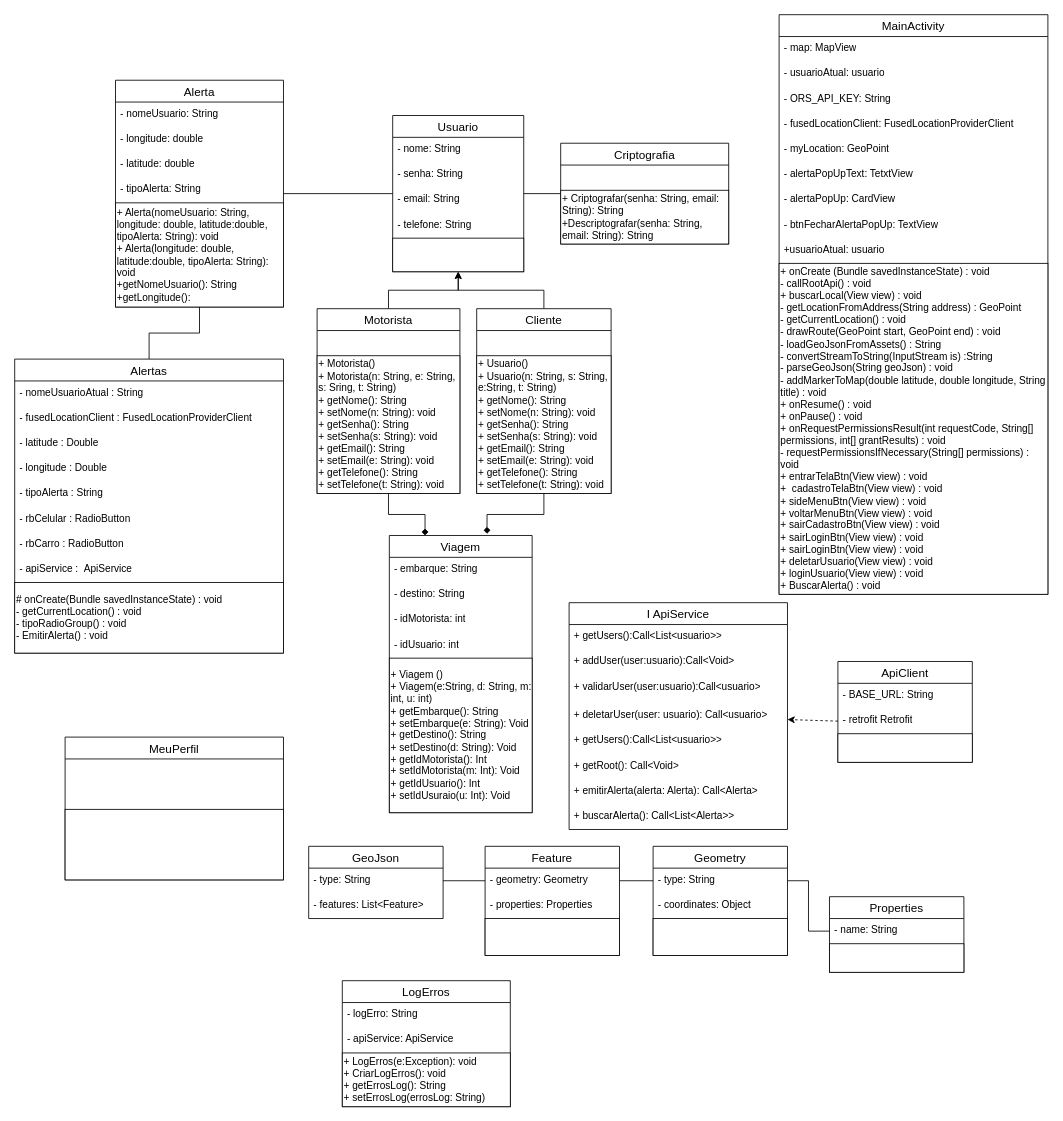
The diagram is 1063 pixels wide and 1121 high, and some of its shapes have lost their labels. Here are the shapes that lost their labels. From the top down, the centre of each, then its label:
At [904,747]: "+ getClient(): Retrofit".
At [174,844]: "# onCreate(Bundle savedInstanceState) : void".
At [552,937]: "+ getGeometry() + getProperties()".
At [720,937]: "+ getType() + getCoordinates()".
At [896,957]: "+ getName()".
